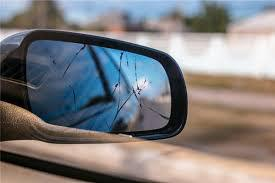Sidemirror-Damage: (7, 24, 190, 147)
